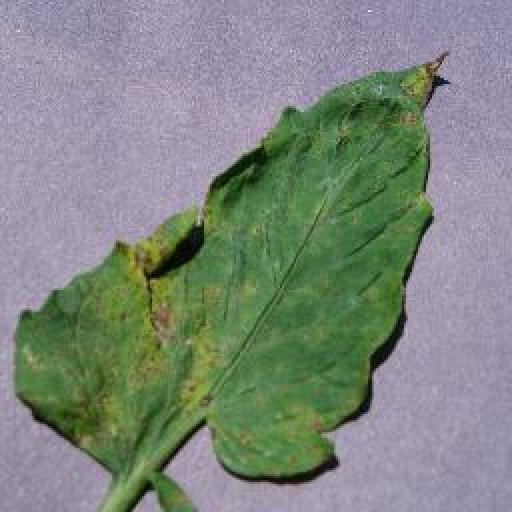disease_tomato: (15, 50, 444, 470)
